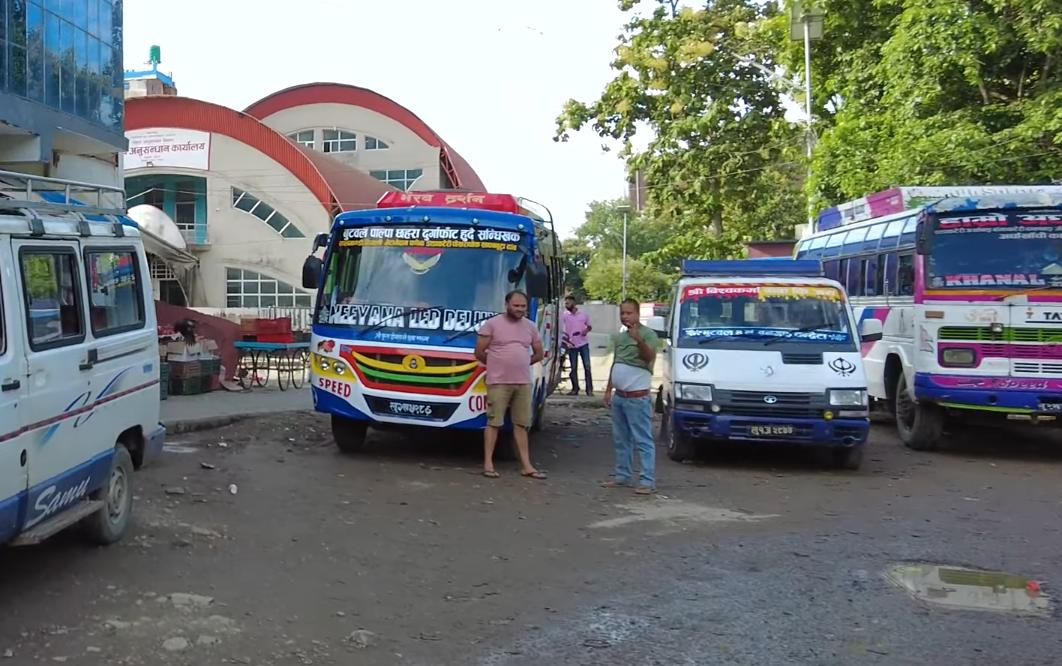bus: (296, 178, 573, 470), (787, 162, 1062, 443)
